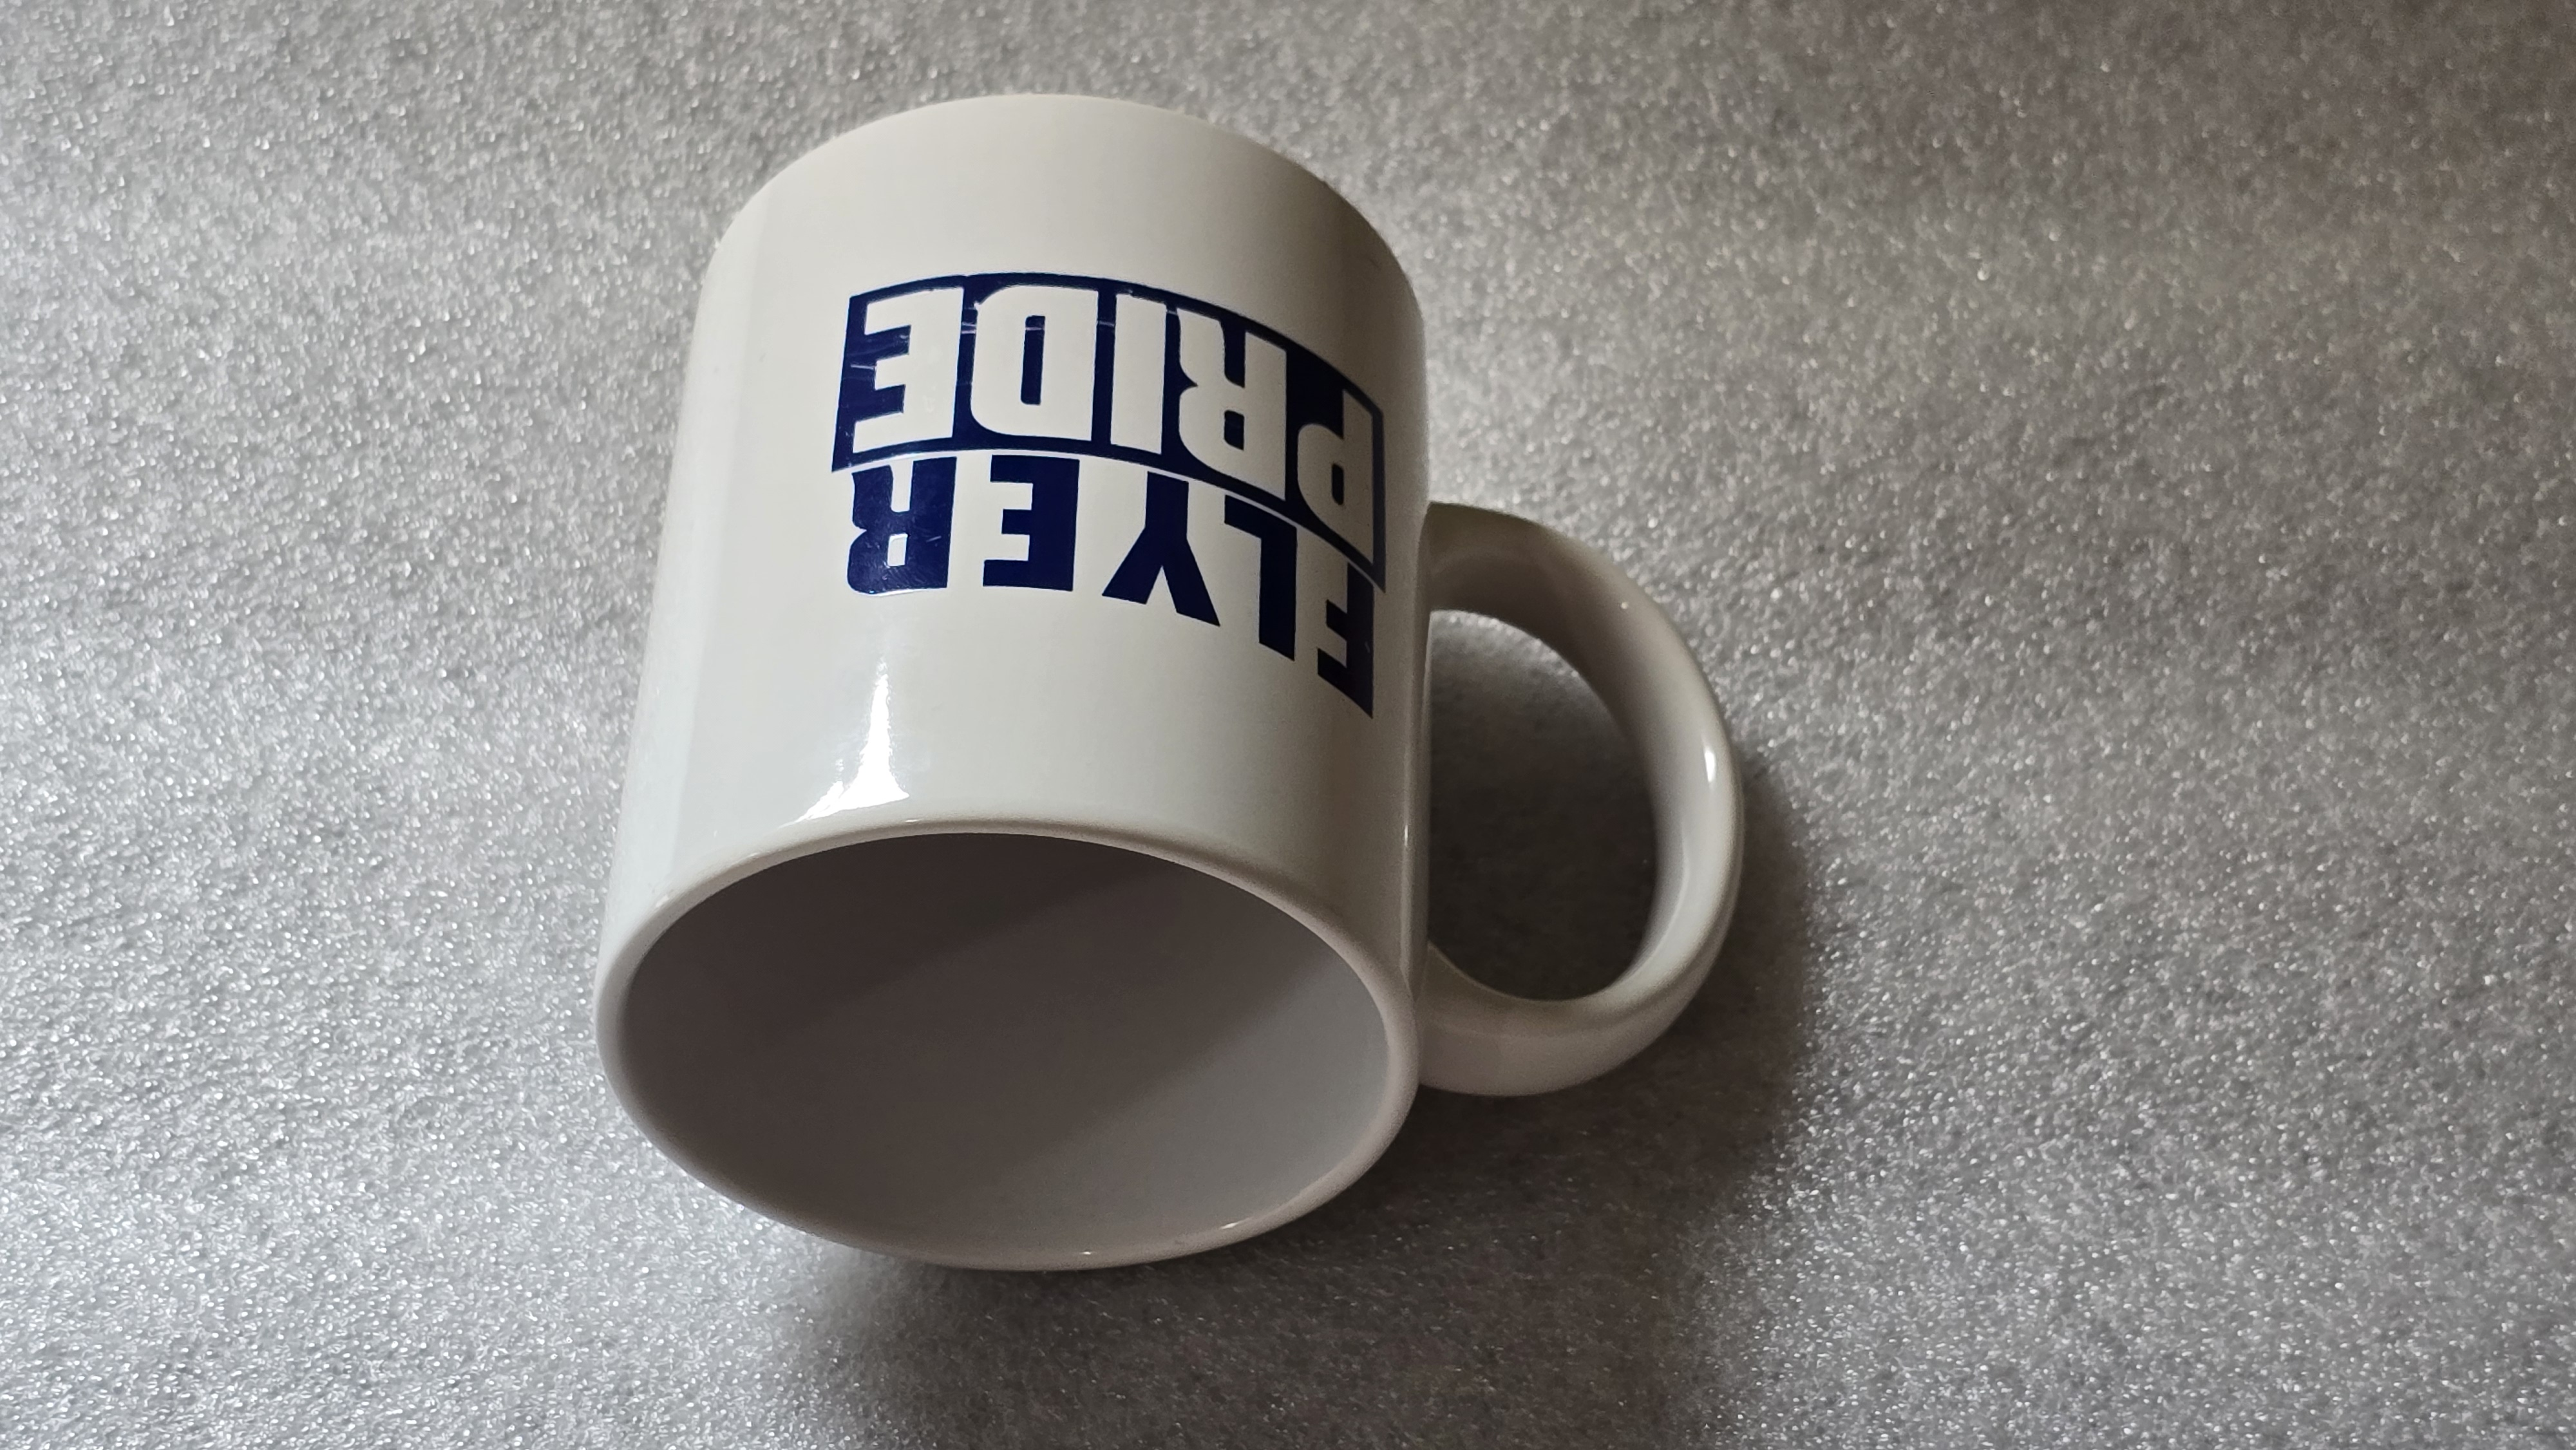mug: (547, 78, 1881, 1300)
